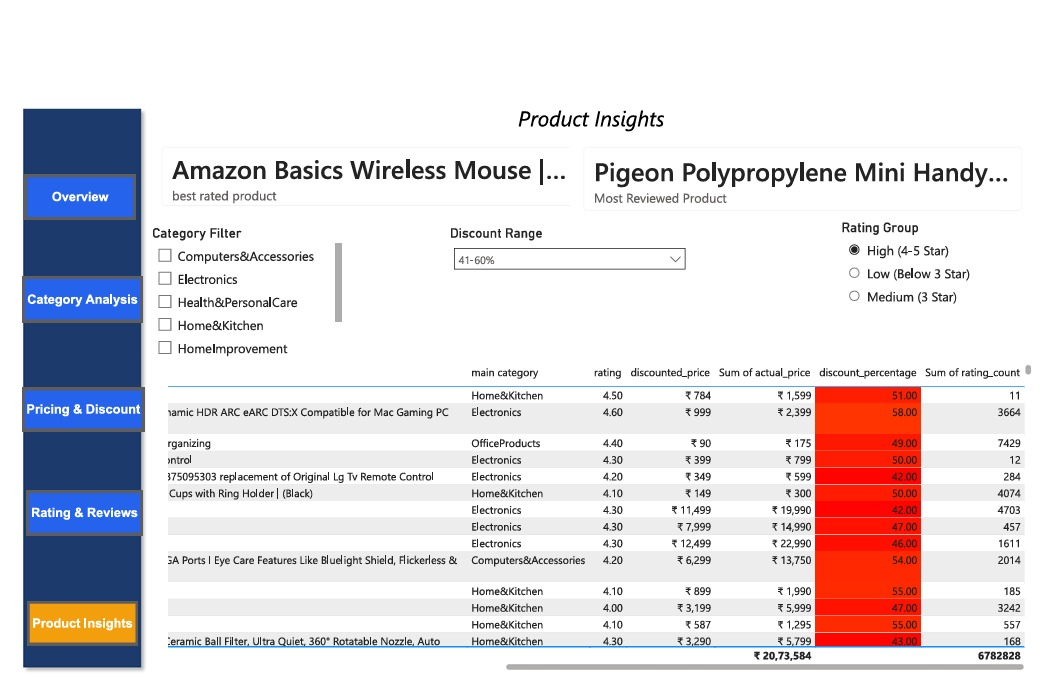

Layout of this report page (visuals, bound fields, positions):
{"tool":"powerbi","page":{"name":"Products Insights","canvas":[1280,720],"ordinal":4},"visuals":[{"type":"shape","box":[0,0,165.7,720],"z":0},{"type":"actionButton","box":[14.3,627.6,138.6,55.8],"z":1000},{"type":"actionButton","box":[8,219.8,151.3,57.3],"z":2000},{"type":"actionButton","box":[8,360,152.9,54.2],"z":3000},{"type":"actionButton","box":[12.7,489,146.5,55.8],"z":4000},{"type":"actionButton","box":[11.2,92.4,138.6,55.8],"z":5000},{"type":"shape","box":[165,0,1115,39.8],"z":6000},{"type":"cardVisual","fields":{"Data":["amazon.best rated product"]},"box":[165.7,39.8,557.5,108.3],"z":6001},{"type":"cardVisual","fields":{"Data":["amazon.Most Reviewed Product"]},"box":[696.1,39.8,584.6,114.7],"z":6002},{"type":"slicer","title":"Category Filter","fields":{"Values":["amazon.main category"]},"box":[165.7,154.5,248.5,170.4],"z":6003},{"type":"slicer","title":"Rating Group","fields":{"Values":["amazon.rating group"]},"box":[1032.2,148.1,248.5,197.5],"z":6004},{"type":"slicer","title":"Discount Range","fields":{"Values":["amazon.discount bucket"]},"box":[540,154.5,310.6,122.7],"z":6005},{"type":"tableEx","fields":{"Values":["amazon.product_name","amazon.main category","amazon.rating","amazon.discounted_price","Sum(amazon.actual_price)","amazon.discount_percentage","Sum(amazon.rating_count)"]},"box":[184.8,325,1095.9,395],"z":6006}]}

Visuals, with their boxes on the page's 1280x720 design canvas (x1, y1, x2, y2). These are canvas units, not pixel positions in the 1050x685 screenshot, which may show the page scaled, cropped or inside an application window:
shape: 0:0:166:720
actionButton: 14:628:153:683
actionButton: 8:220:159:277
actionButton: 8:360:161:414
actionButton: 13:489:159:545
actionButton: 11:92:150:148
shape: 165:0:1280:40
cardVisual - amazon.best rated product: 166:40:723:148
cardVisual - amazon.Most Reviewed Product: 696:40:1281:154
"Category Filter" slicer: 166:154:414:325
"Rating Group" slicer: 1032:148:1281:346
"Discount Range" slicer: 540:154:851:277
tableEx - amazon.product_name x amazon.main category: 185:325:1281:720
